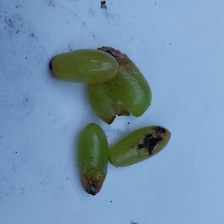grapes: (32, 0, 220, 198)
